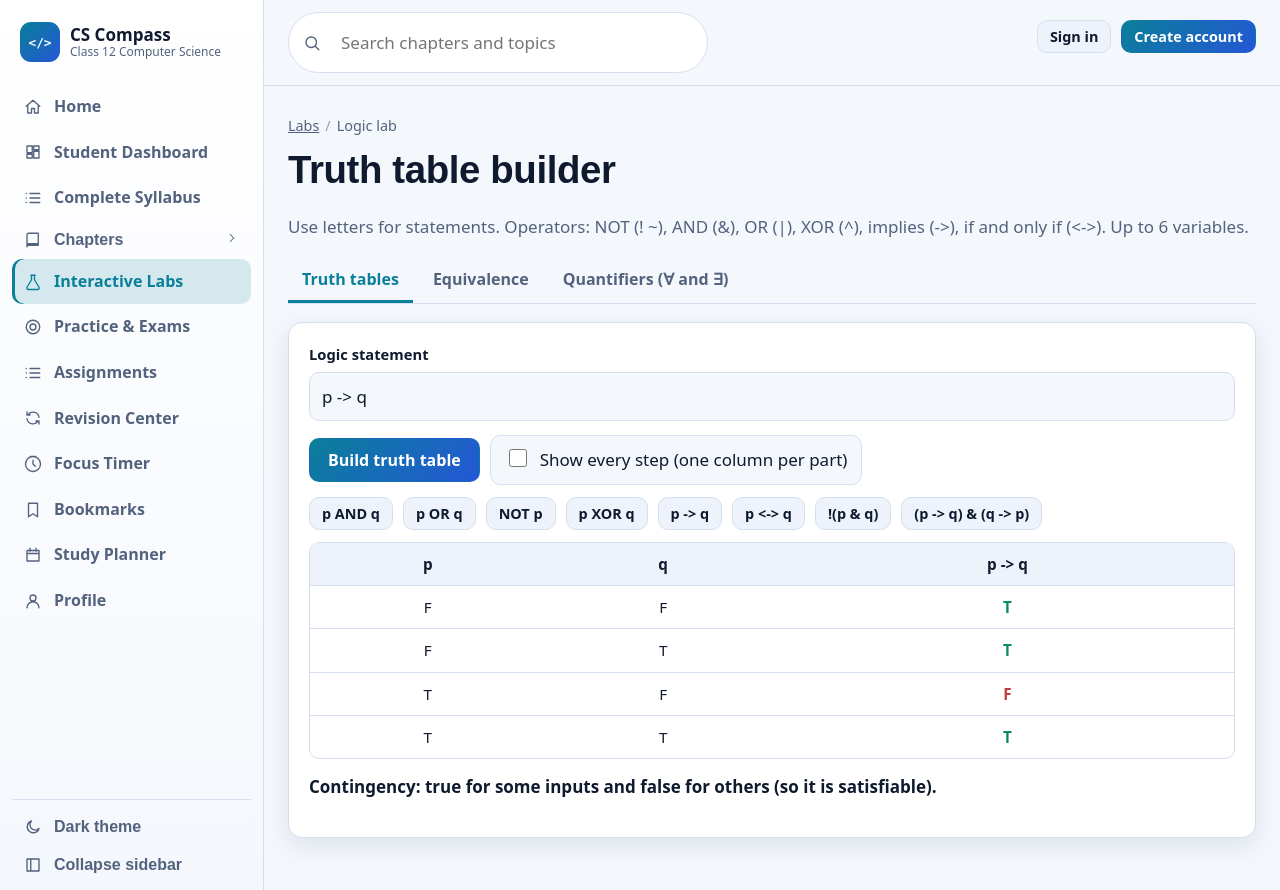
Test: labs added in the second pass › logic lab: truth table shows every step, and the quantifier walkthrough decides for-all with a counterexample
This screenshot has width=1280, height=890.
Check: the heading "Truth table builder" is shown, box x1=288 y1=148 x2=616 y2=191
Click the button "(p -> q) & (q -> p)" at (972, 513), box x1=901 y1=497 x2=1042 y2=530
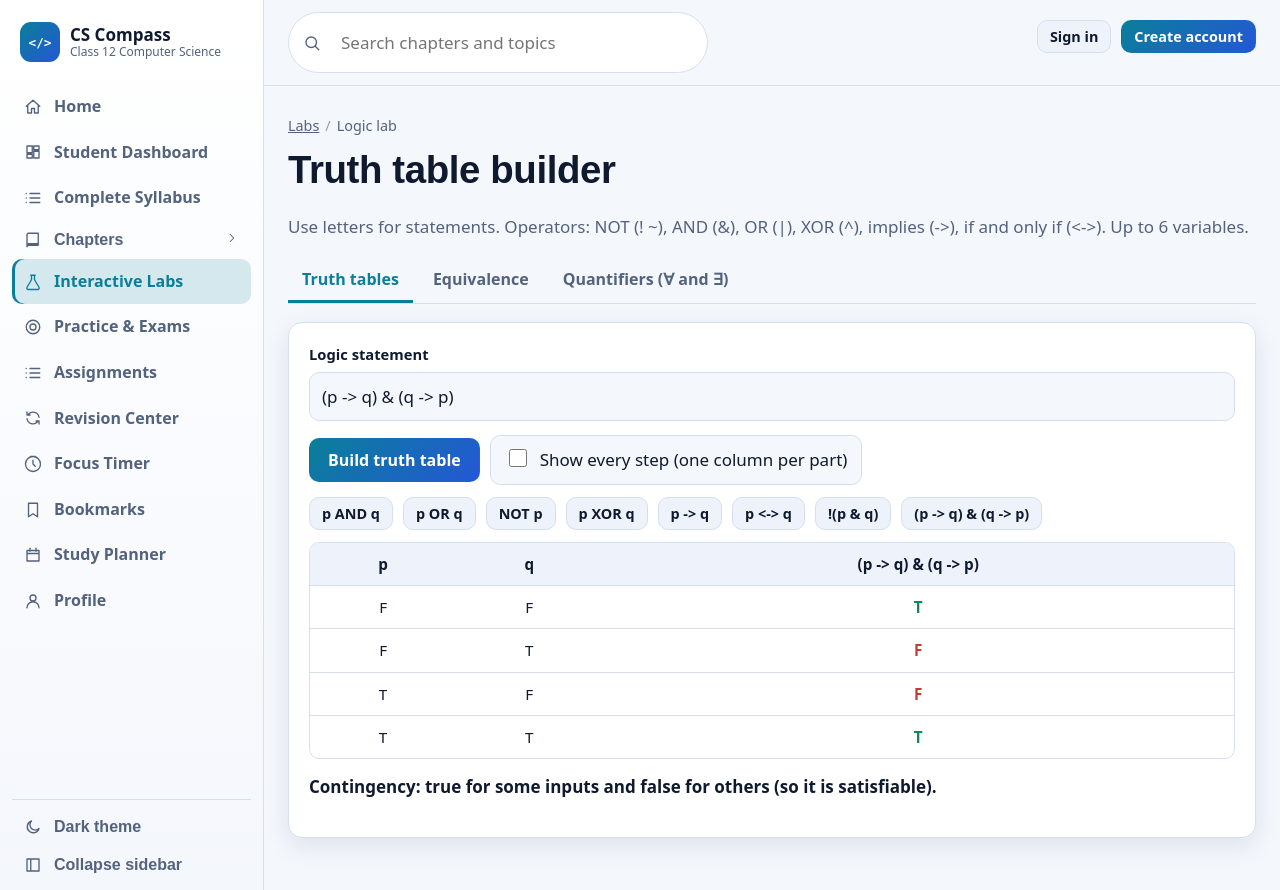
Click the checkbox labelled "Show every step (one column per part)" at (518, 458), box x1=509 y1=449 x2=527 y2=467
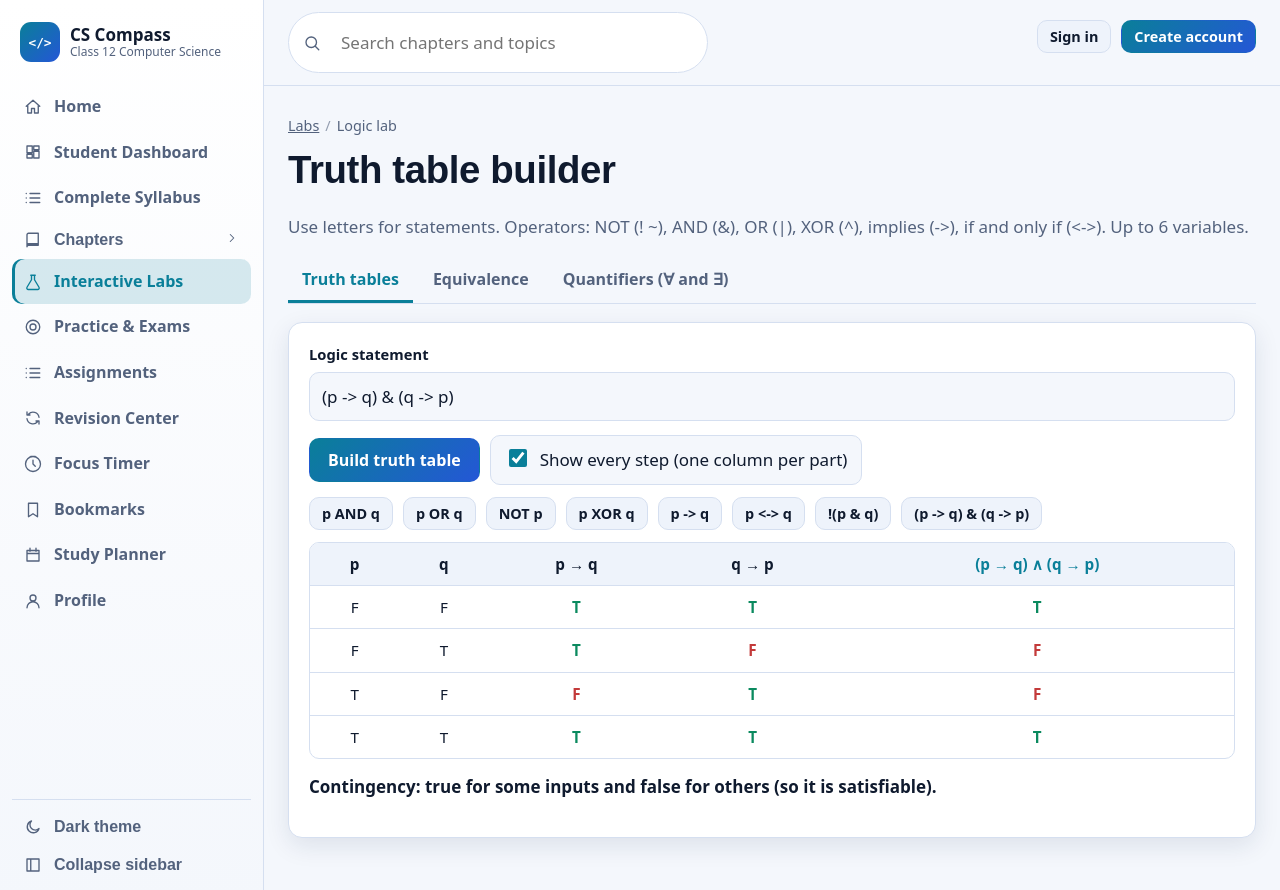
Check: the column heading "p → q" is shown, box x1=488 y1=543 x2=664 y2=585
Check: the column heading "q → p" is shown, box x1=664 y1=543 x2=840 y2=585
Check: the column heading "(p → q) ∧ (q → p)" is shown, box x1=840 y1=543 x2=1234 y2=585
Click the tab "Quantifiers (∀ and ∃)" at (646, 280), box x1=549 y1=258 x2=742 y2=303
(page scrolled)
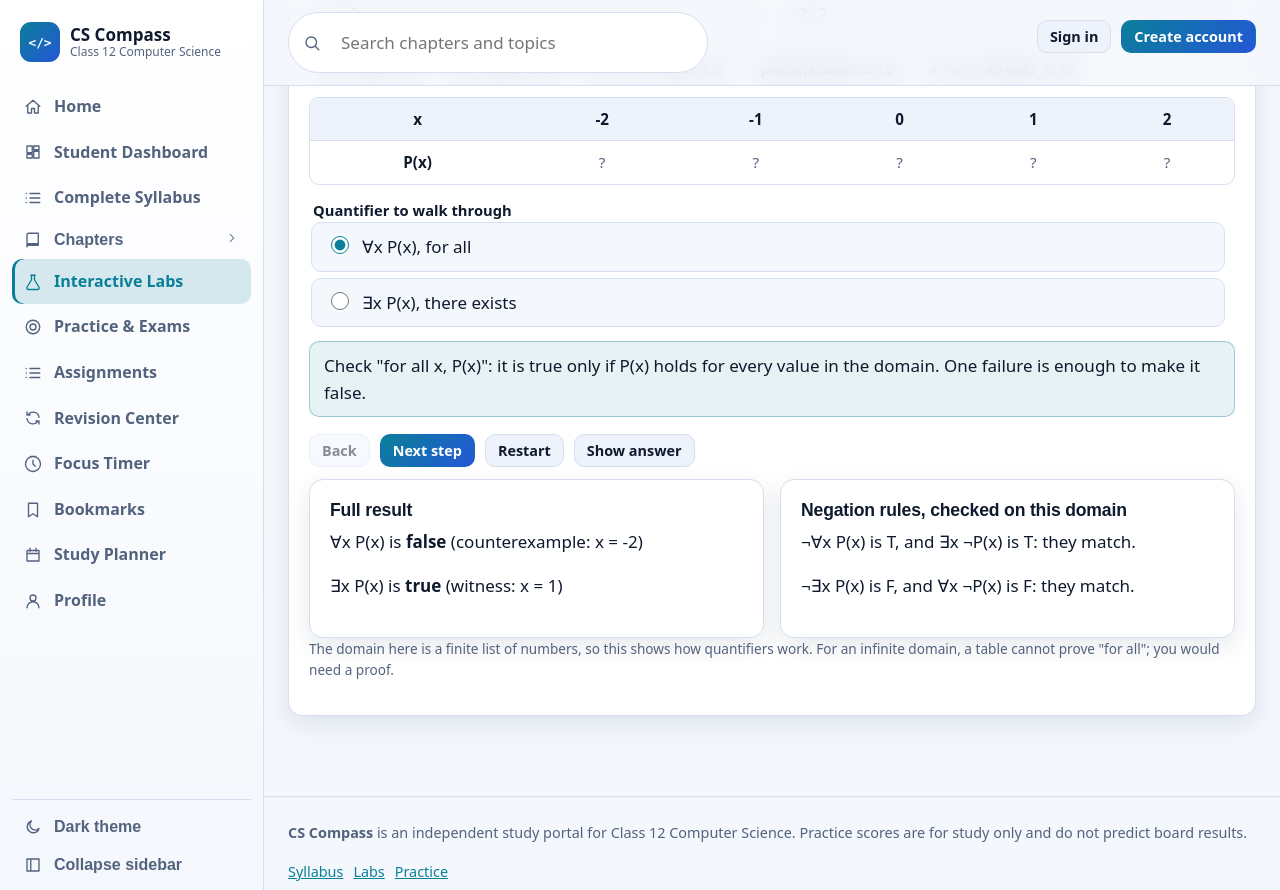
Check: the text "Check \"for all x, P(x)\"" is shown, box x1=324 y1=354 x2=1200 y2=404
Click the button "Next step" at (427, 451), box x1=380 y1=434 x2=475 y2=467
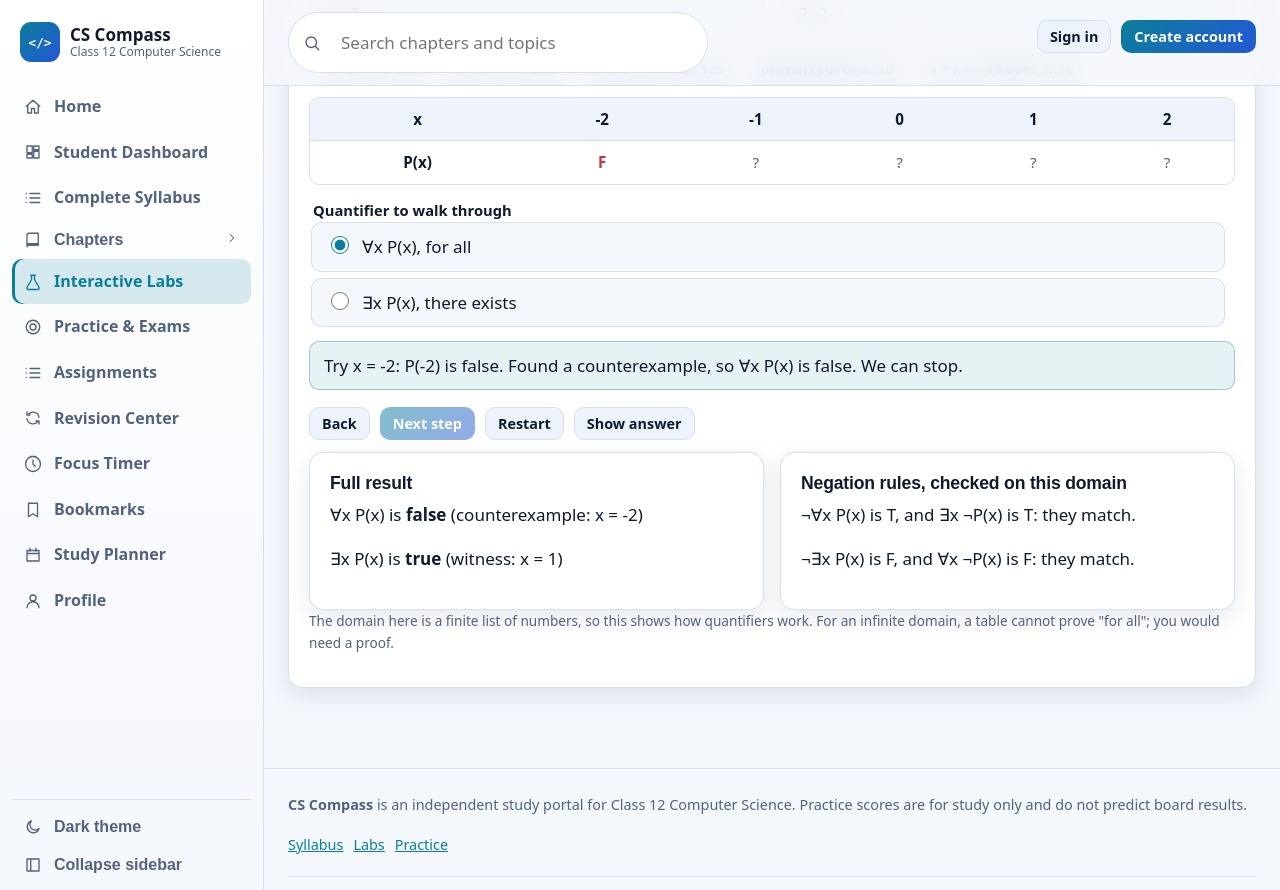
Click the button "Next step" at (427, 423), box x1=380 y1=407 x2=475 y2=440
(page scrolled)
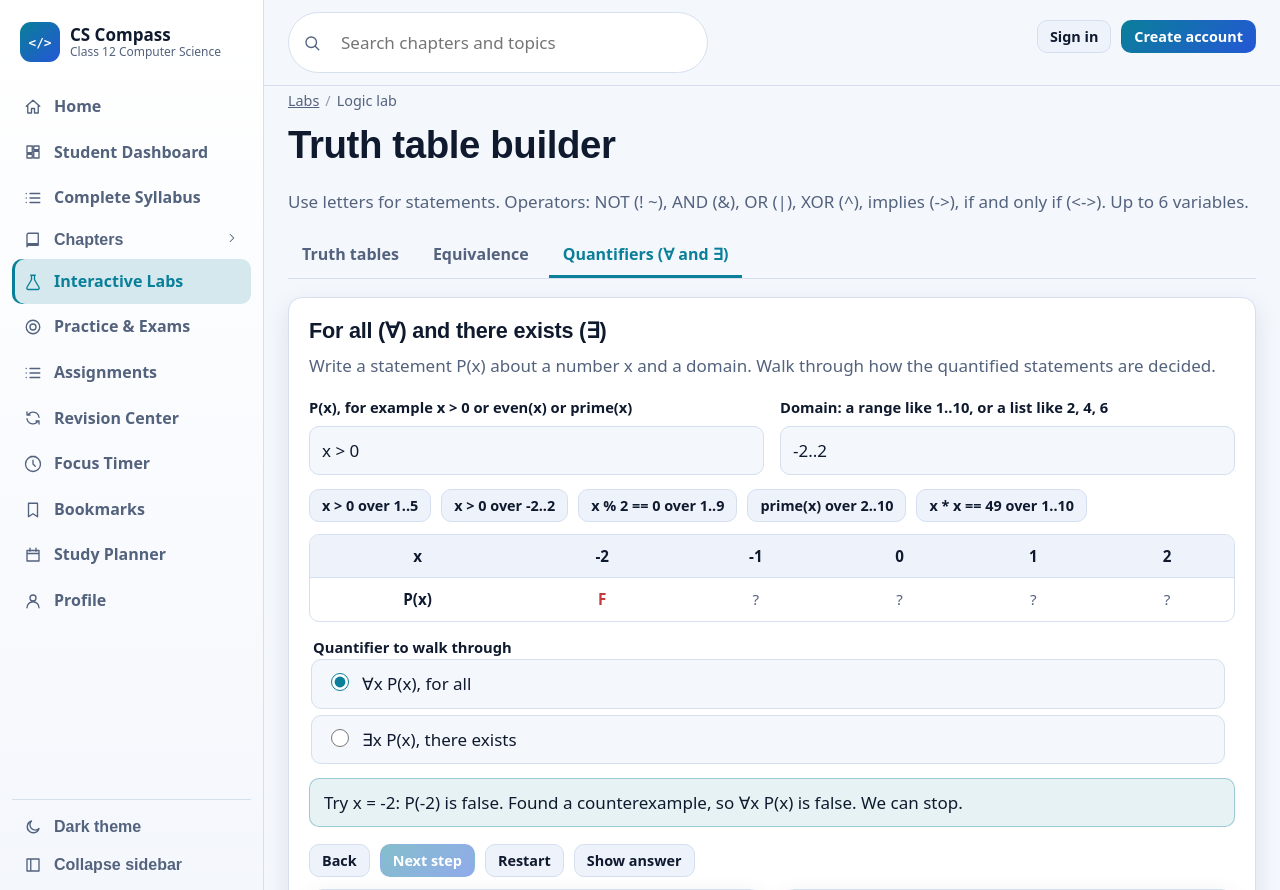
Check: the text "Found a counterexample" is shown, box x1=324 y1=791 x2=963 y2=814
Check: the button "Next step" is disabled, box x1=380 y1=844 x2=475 y2=877
Replace the text in the field labelled "P(x), for example x > 0 or even(x) or prime(x)" with "x +" at (536, 451), box x1=309 y1=426 x2=764 y2=475
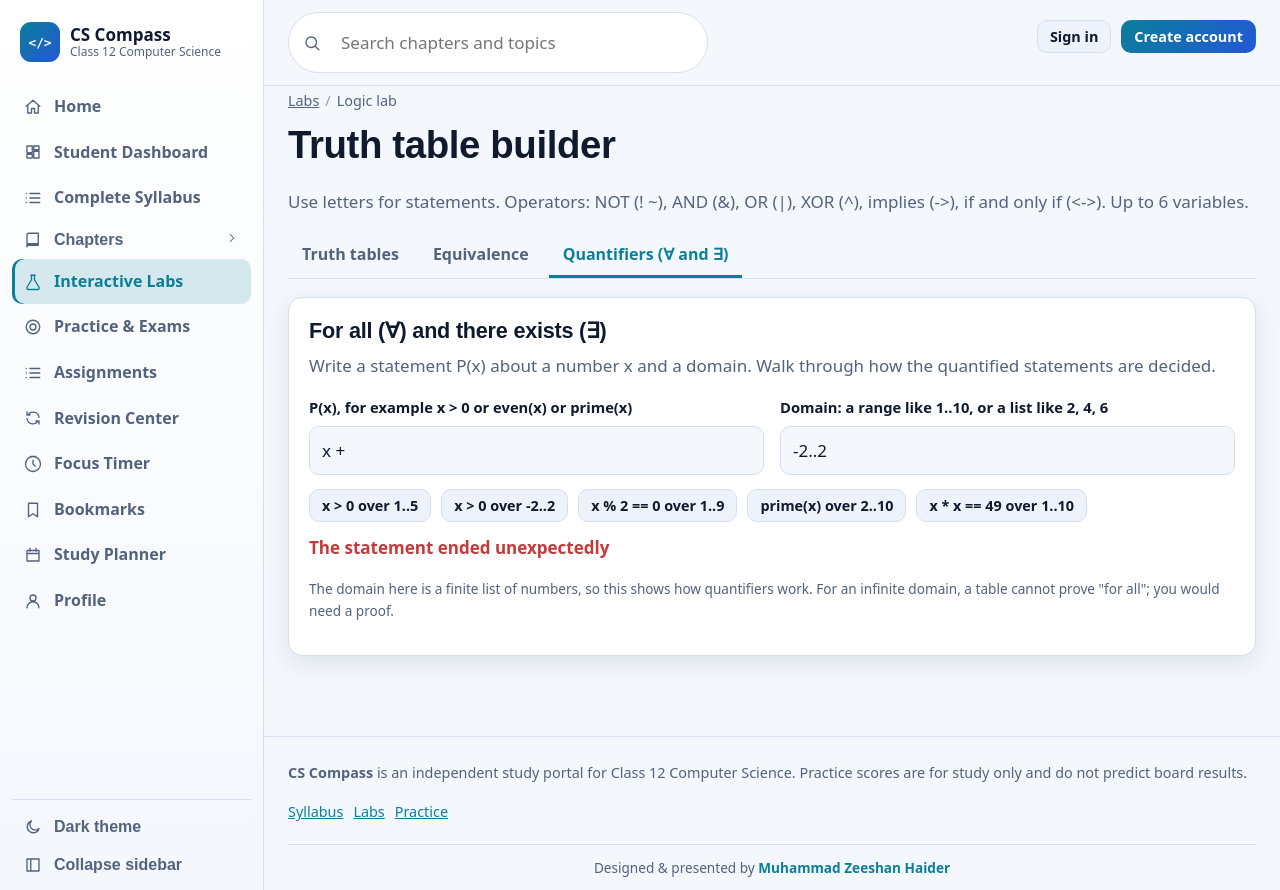
Check: the message "The statement ended unexpectedly" is shown, box x1=309 y1=536 x2=609 y2=559
